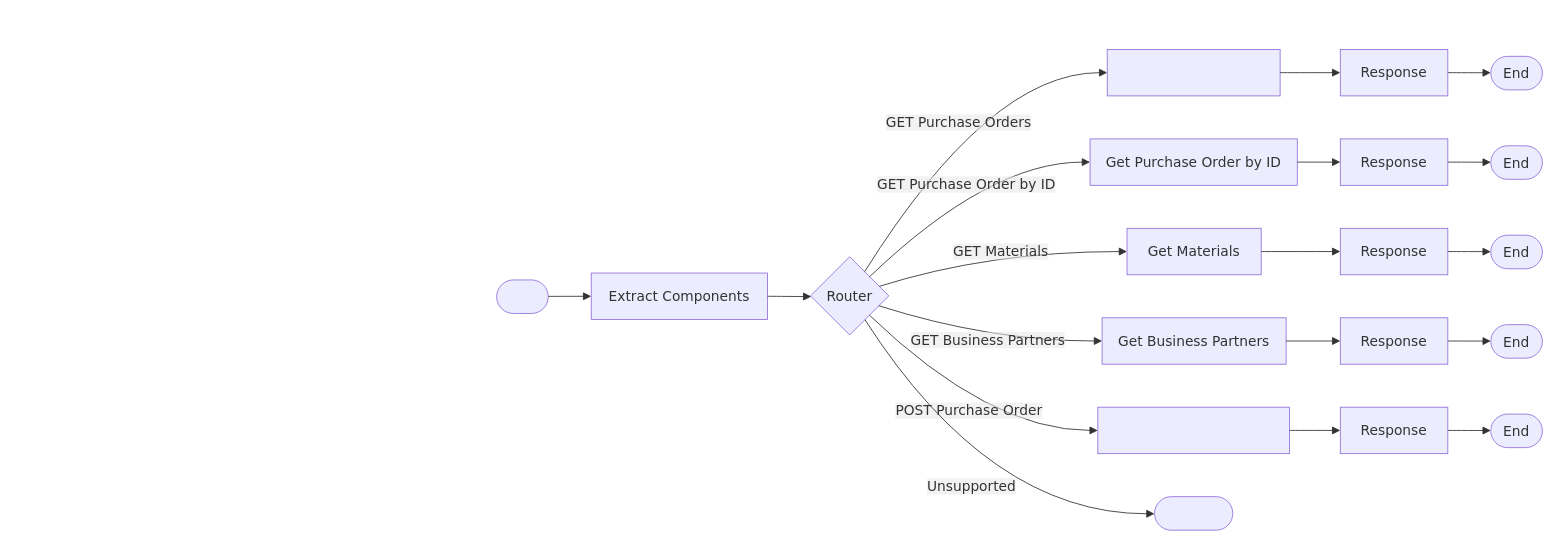
The diagram is 1557 pixels wide and 545 high, and some of its shapes have lost their labels. Here are the shapes that lost their labels. From the top down, the centre of each, then its label:
At (1193,72): "Get Purchase Order".
At (522,296): "Start".
At (1193,430): "Create Purchase Order".
At (1193,513): "Error End".
